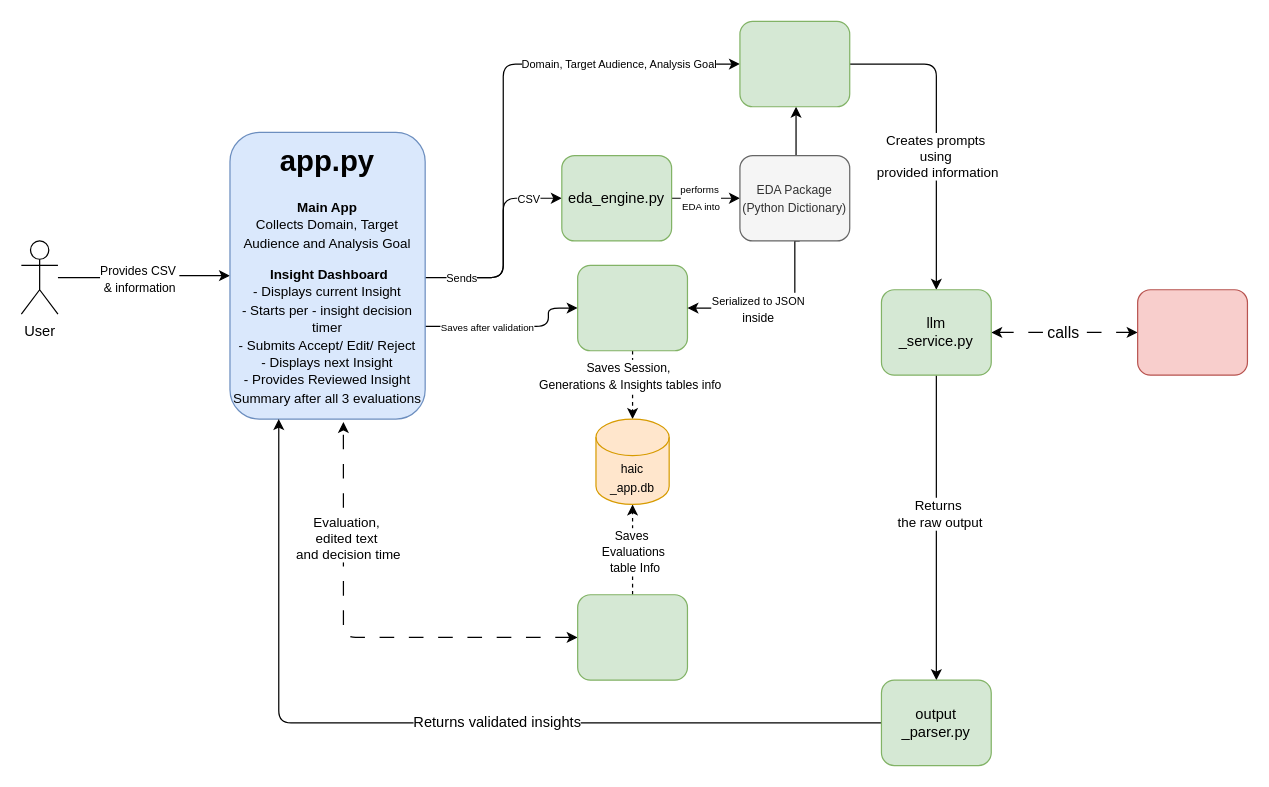
The diagram is 1269 pixels wide and 787 high, and some of its shapes have lost their labels. The centre of each missing label's shape, as x and y in pixels:
"evaluation _handler.py" goes at point 631,637.
"OpenAI gpt-oss-120b Model" goes at point 1191,332.
"prompt _builder.py" goes at point 794,63.
"session _stored.py" goes at point 631,307.
